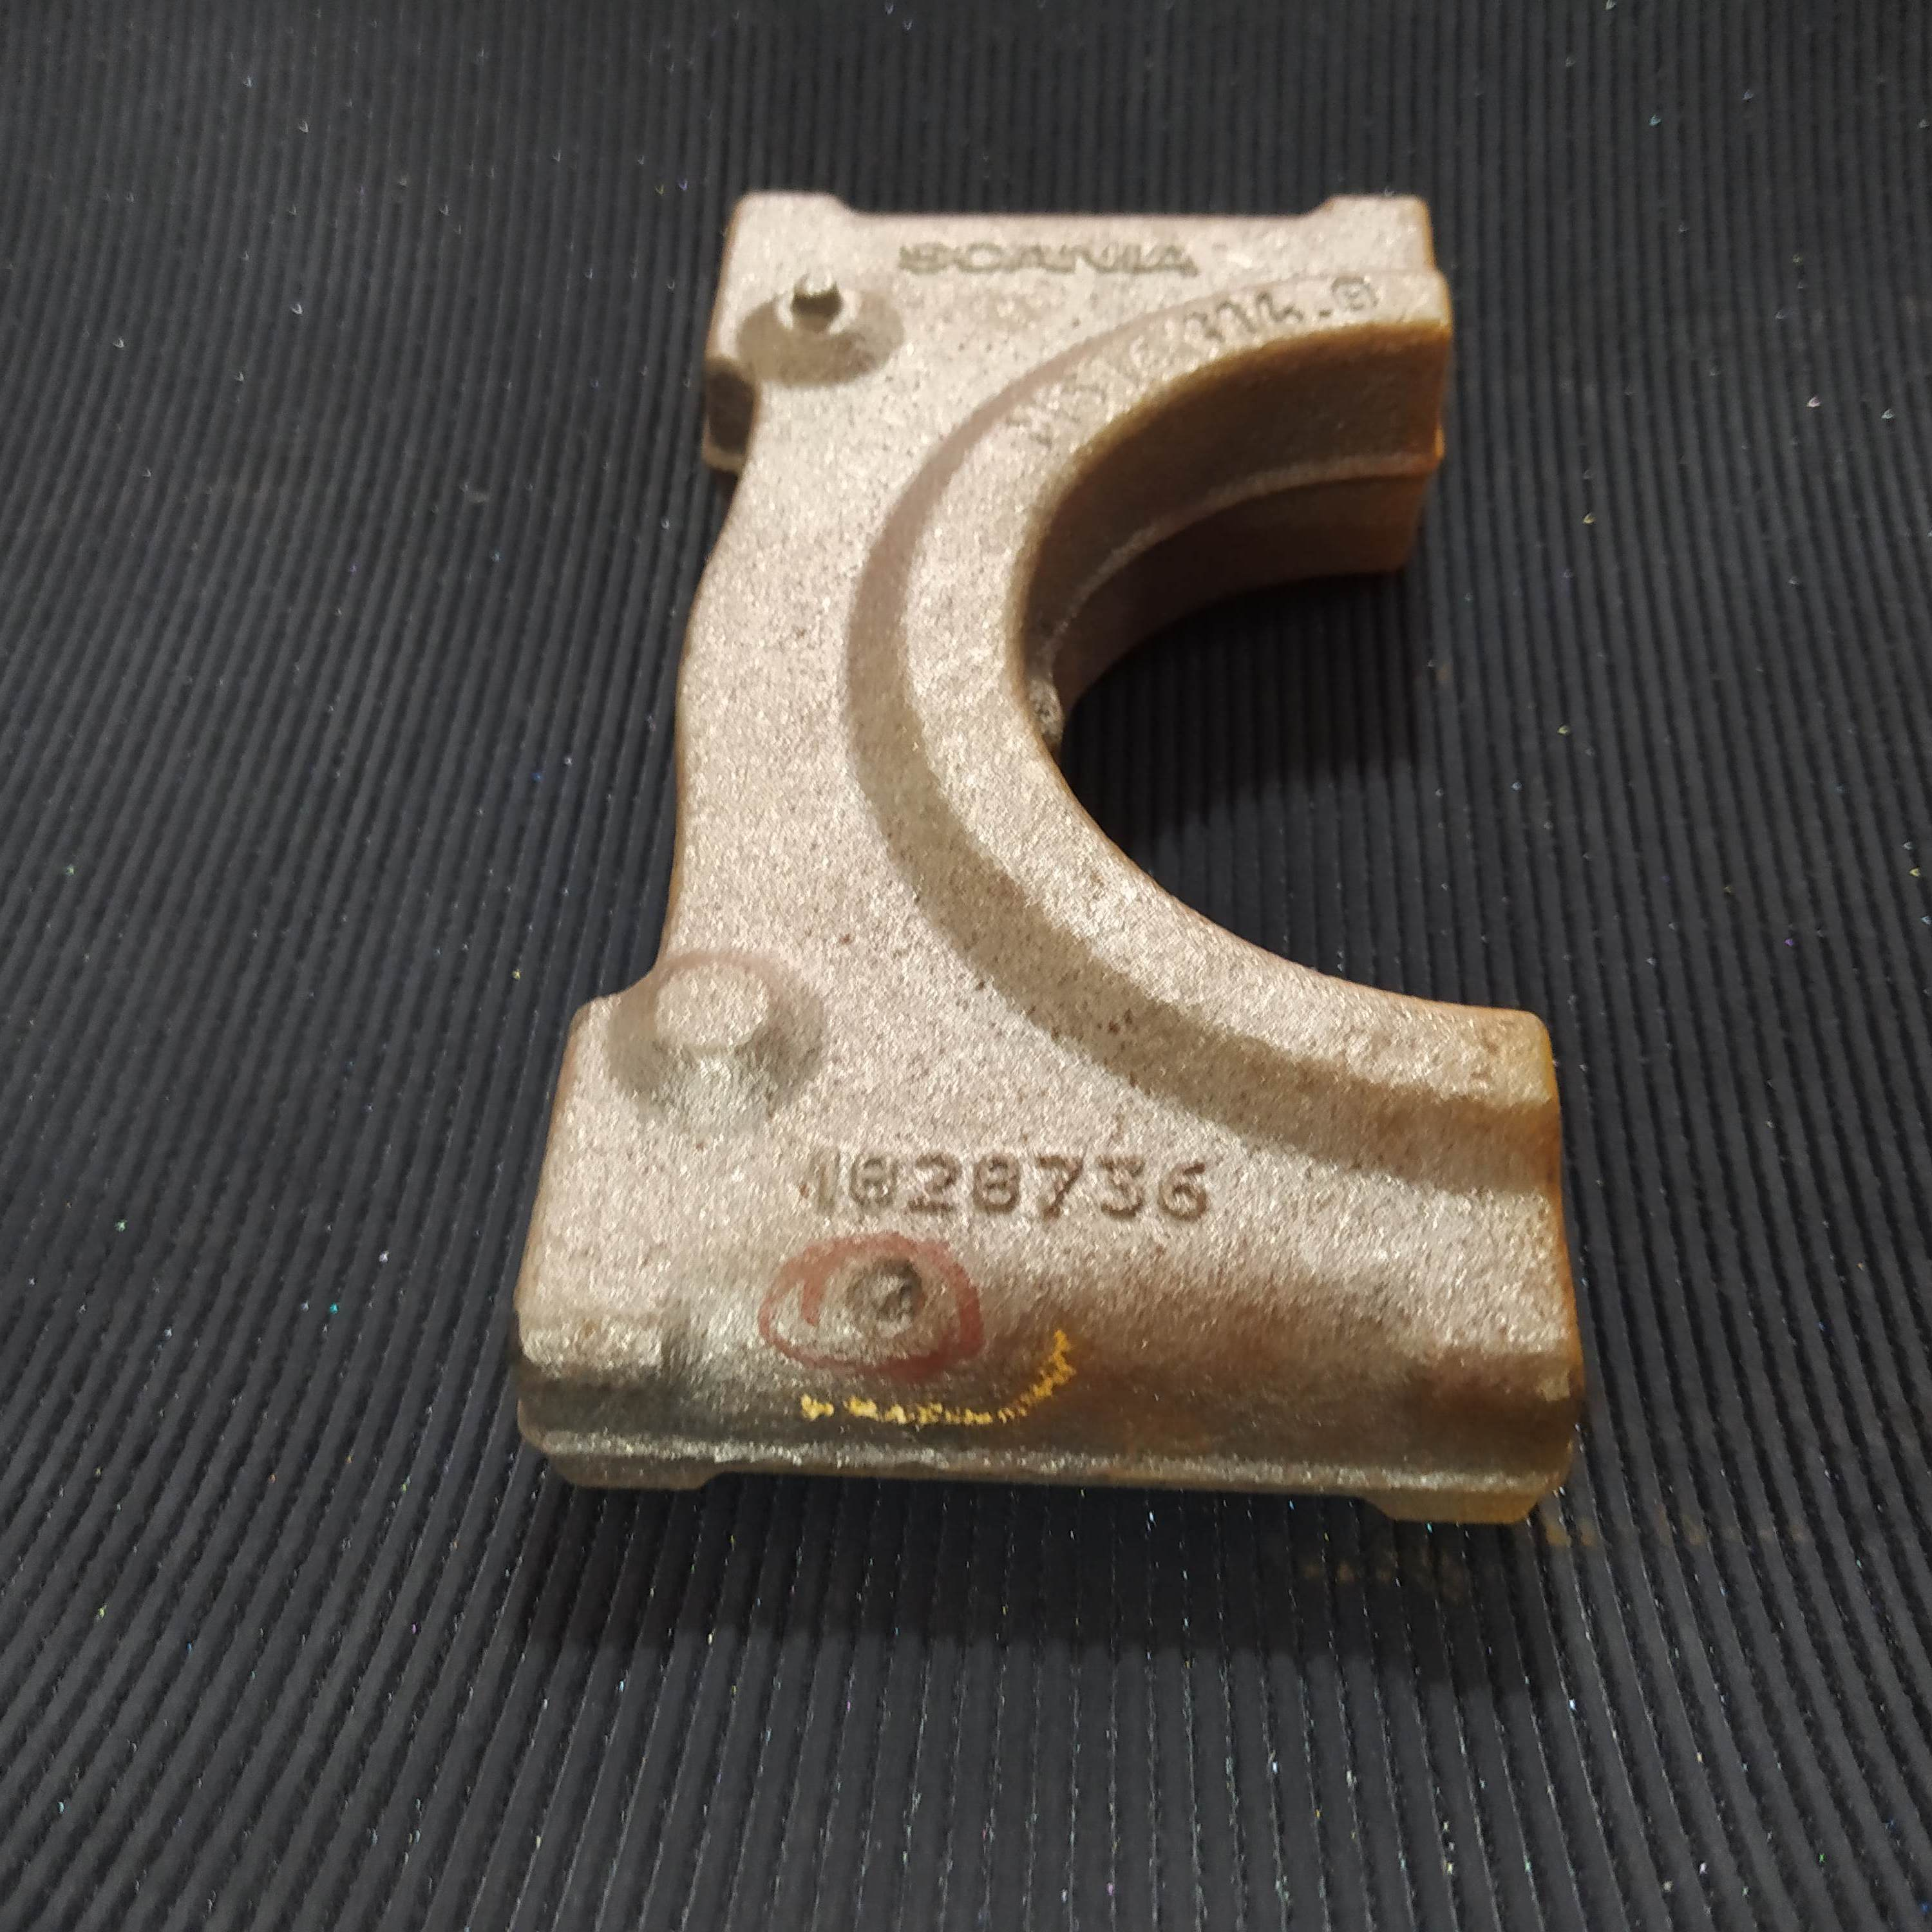buraco: (844, 1254, 927, 1343)
